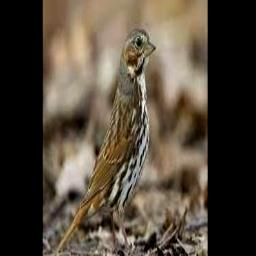Sparrow: (55, 28, 157, 254)
